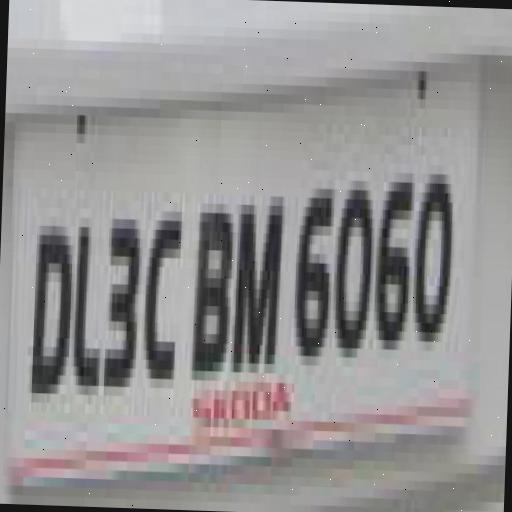number plate: (13, 19, 512, 455)
